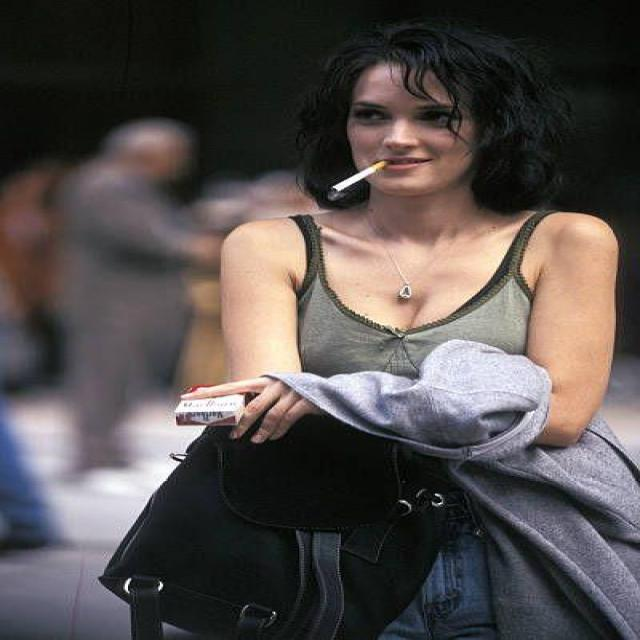cigarette: (314, 152, 391, 204)
